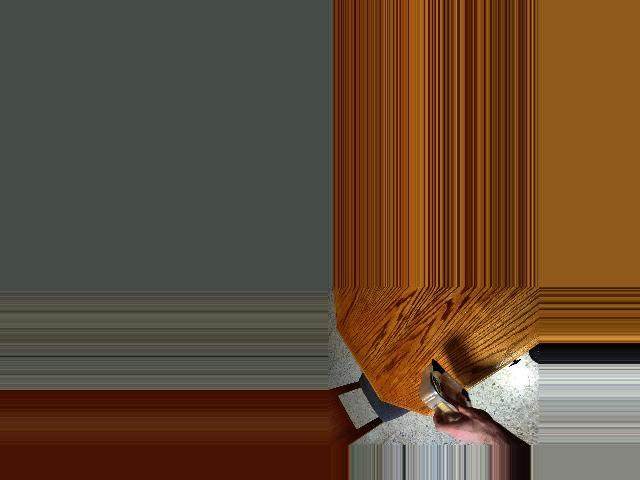cheese: (407, 363, 491, 424)
